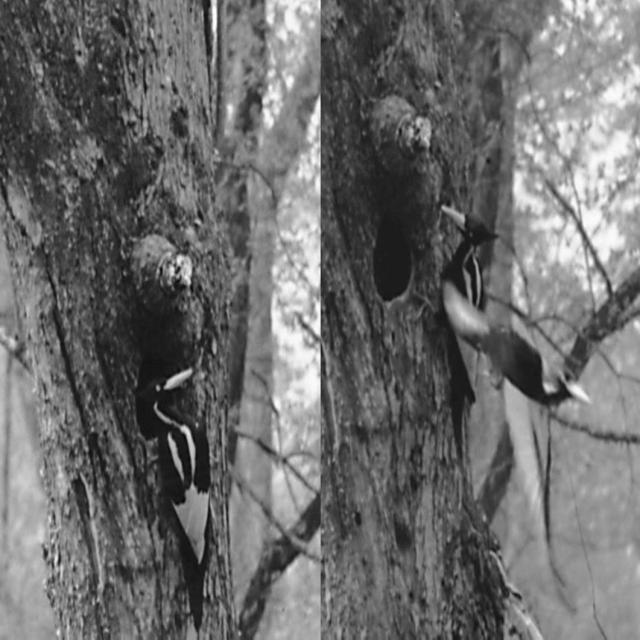Woodpecker: (145, 359, 215, 622), (440, 195, 486, 449)
